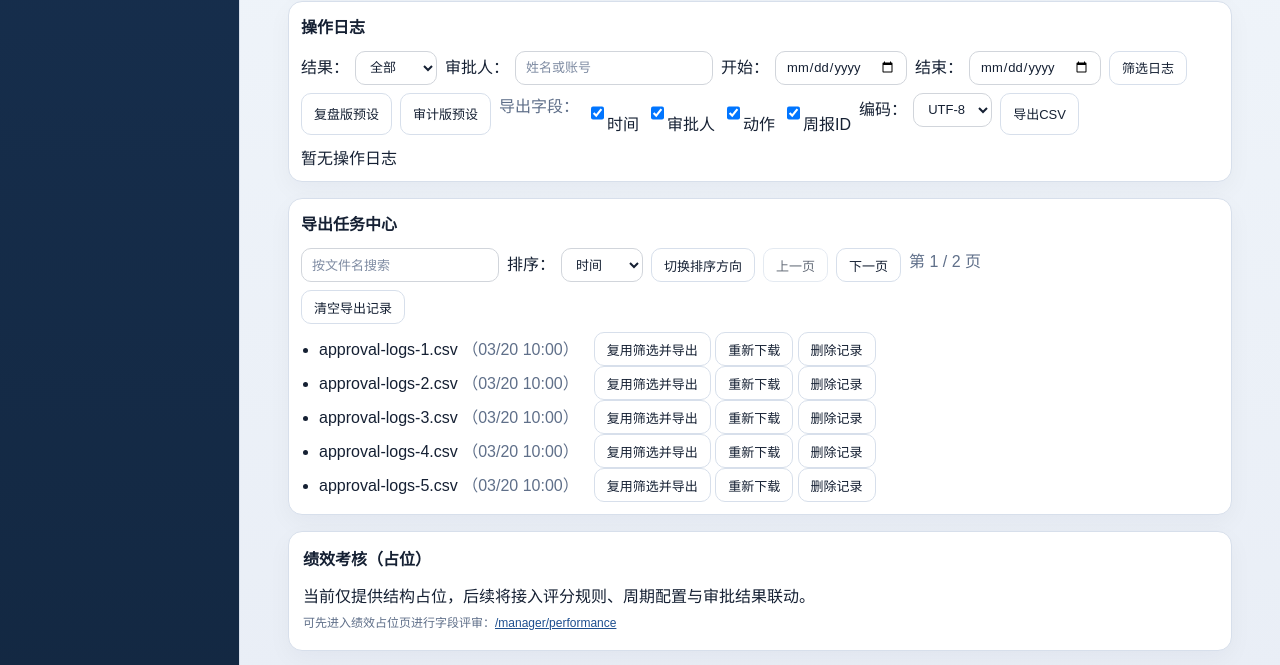
Scenario: ManagerReviewsPage › supports searching and paginating export history
The image size is (1280, 665).
(page scrolled)
Check: the text "approval-logs-1.csv" is shown, box [319,341,458,358]
Check: the text "approval-logs-6.csv" is not shown
Click the button "下一页". click: point(868, 265)
box: [836,248,901,282]
(page scrolled)
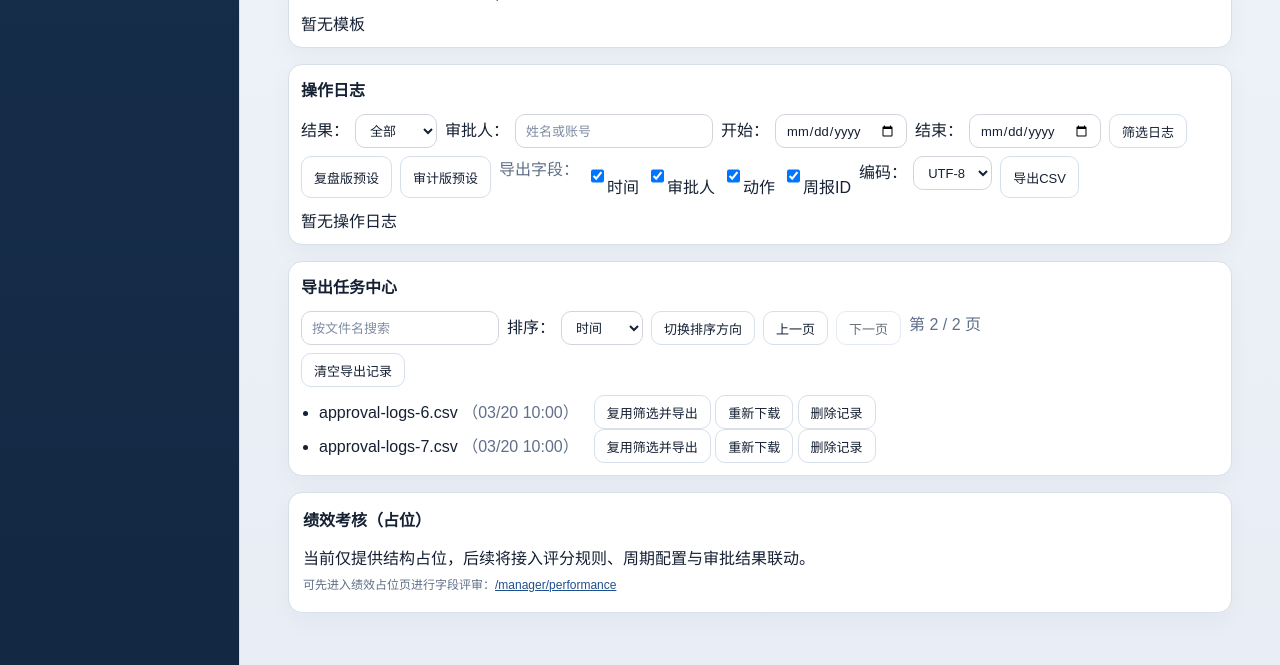
Check: the text "approval-logs-6.csv" is shown, box [319,404,458,421]
Check: the text "第 2 / 2 页" is shown, box [909,316,981,333]
Type "approval-logs-7" into the field named "导出记录搜索". click: point(400, 328)
box: [301,311,499,345]
(page scrolled)
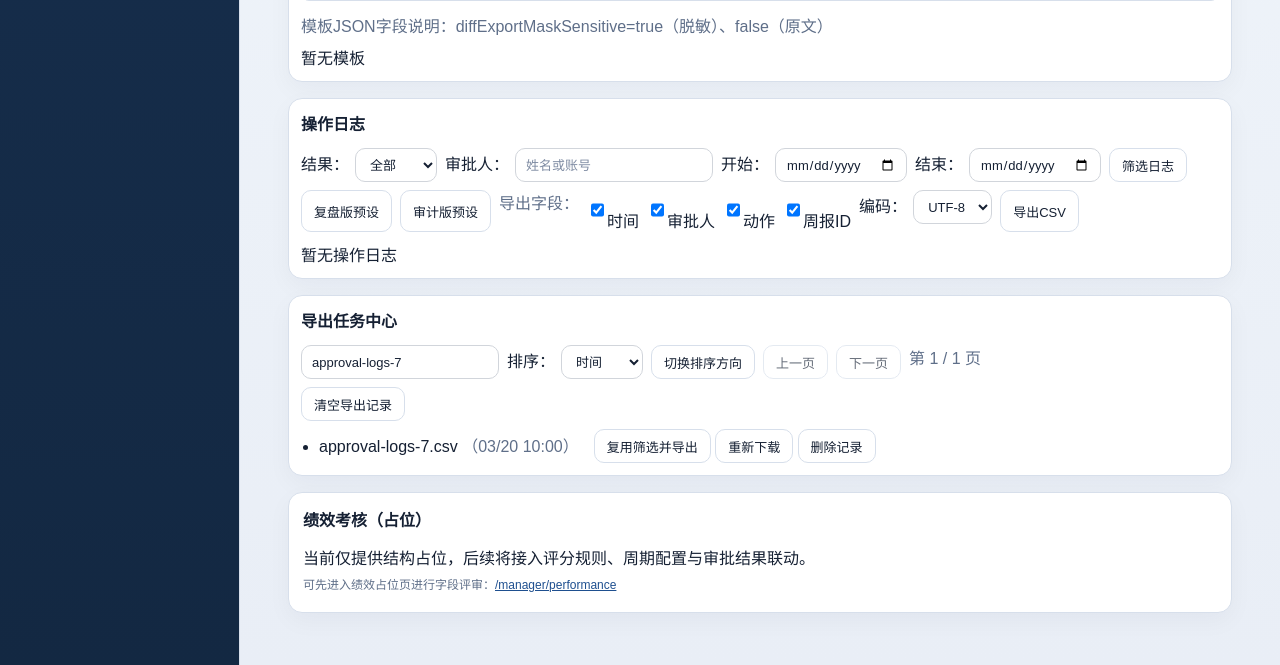
Check: the text "approval-logs-7.csv" is shown, box [319,438,458,455]
Check: the text "approval-logs-6.csv" is gone
Check: the text "第 1 / 1 页" is shown, box [909,350,981,367]
